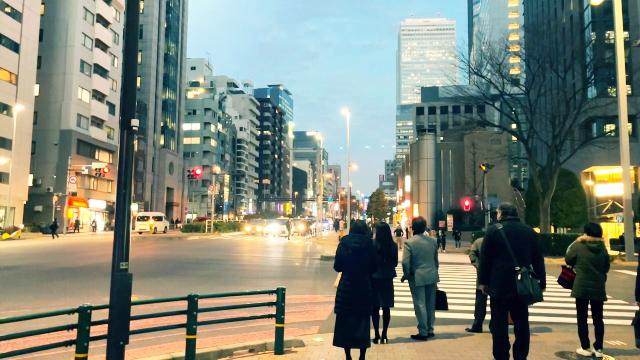berdiri: (475, 195, 548, 360), (326, 215, 384, 360), (560, 212, 616, 360), (402, 214, 448, 346)
